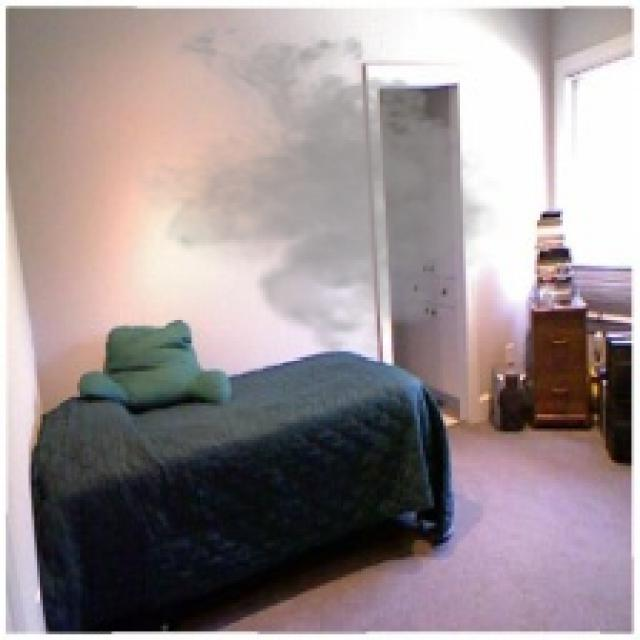smoke: (109, 14, 512, 357)
